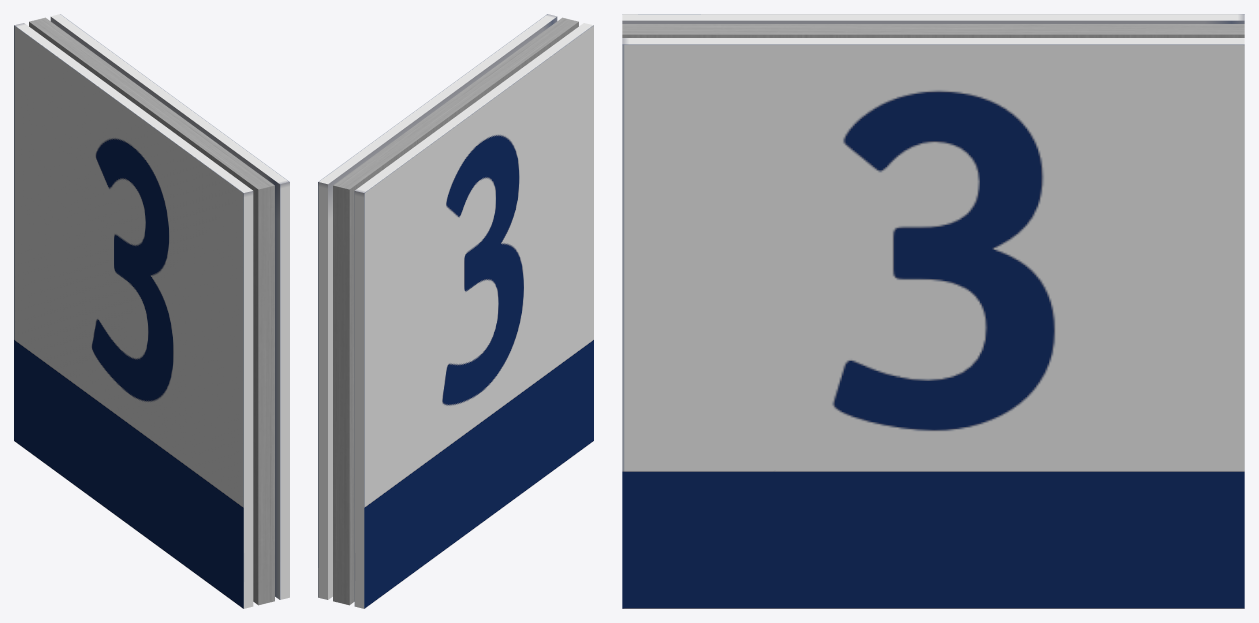
The model's file is scotrail_platform_3.obj.
The picture shows the model from 3 angles, left to right: view 1: azimuth 30°, elevation 25°; view 2: azimuth 150°, elevation 25°; view 3: azimuth 270°, elevation 25°; orthographic projection. The views are drawn at different scales.
Visible parts, largest first — view 1: cube; view 2: cube; view 3: cube.
Boxes of the visible parts, x1,y1,x2,y2 form: cube: [14, 14, 289, 608]; cube: [318, 14, 593, 608]; cube: [622, 14, 1244, 608].
Size of the model in its own units: 0.0438 by 0.375 by 0.375.
